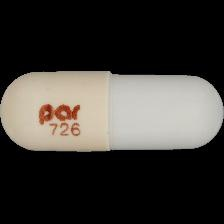49884-726: (0, 0, 224, 224)
